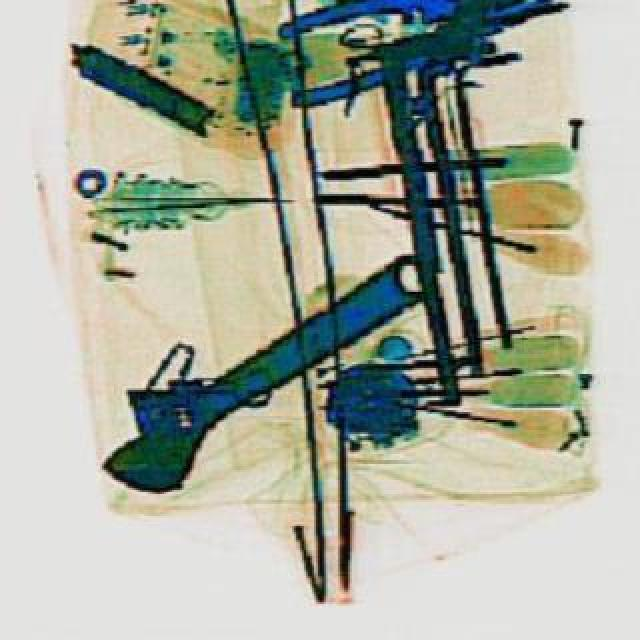scissors: (66, 218, 462, 516)
wrench: (278, 2, 554, 102)
